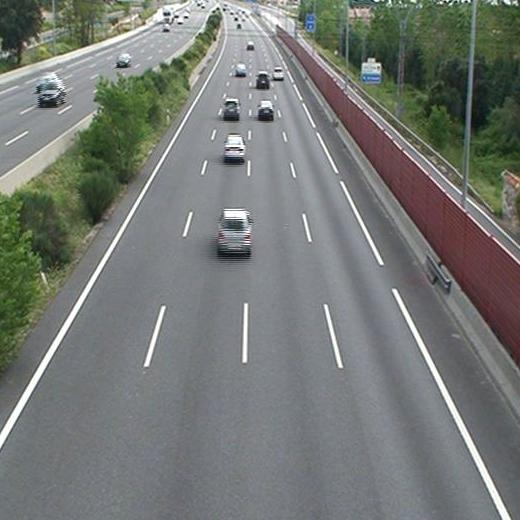car: (218, 210, 251, 251), (224, 136, 245, 158), (224, 100, 239, 116), (258, 102, 273, 117), (256, 72, 269, 85), (235, 63, 247, 75), (273, 67, 284, 79), (246, 42, 255, 50)
